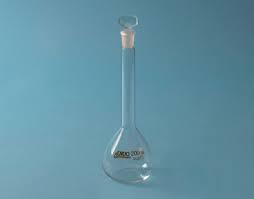Volumetric flask: (92, 9, 163, 185)
